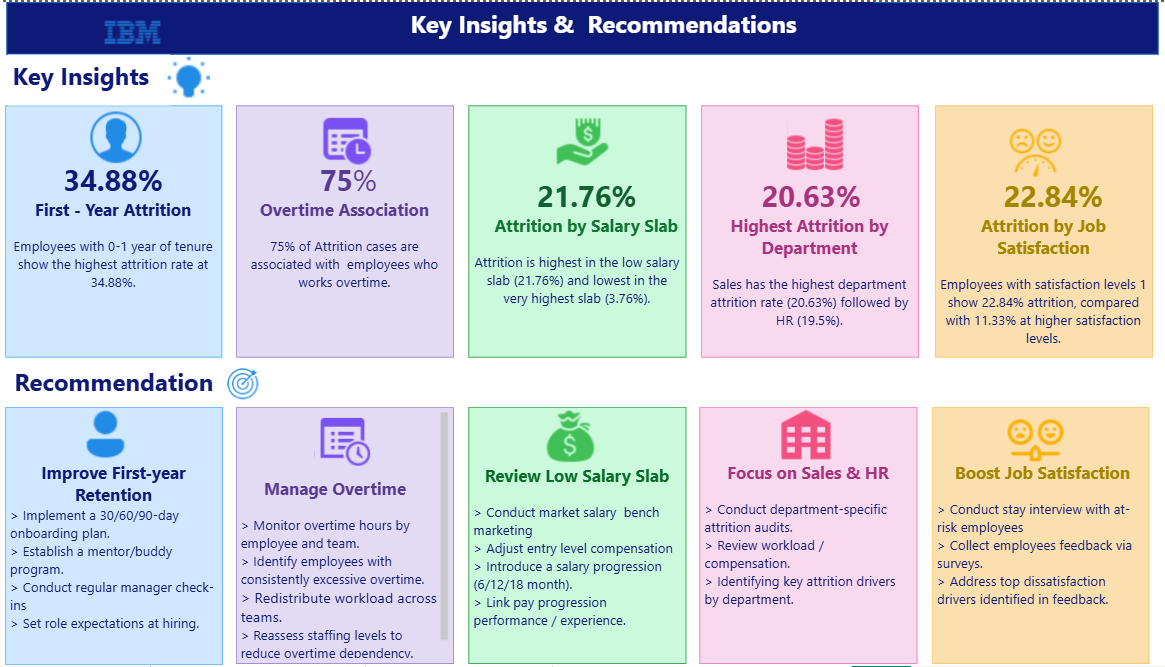

What the dashboard file says about the page in this screenshot:
{"tool":"powerbi","page":{"name":"Insights & Recommendations","canvas":[1300,900],"ordinal":2},"visuals":[{"type":"shape","title":"Key Insights  &   Recommendations","box":[8.3,0,1280,58.3],"z":0},{"type":"textbox","box":[6.7,115,241,280],"z":1000},{"type":"textbox","box":[263.3,115,241.7,280],"z":2000},{"type":"textbox","box":[521.7,115,241.7,280],"z":3000},{"type":"textbox","box":[780,115,241.7,280],"z":4000},{"type":"textbox","box":[1040,115,241.7,280],"z":5000},{"type":"textbox","box":[6.7,448.3,241.7,285],"z":6000},{"type":"textbox","box":[263.3,450,241.7,285],"z":7000},{"type":"textbox","box":[520,448.3,241.7,285],"z":8000},{"type":"textbox","box":[778.3,450,241.7,285],"z":9000},{"type":"textbox","box":[1036.7,450,241,285],"z":10000},{"type":"textbox","box":[9.7,58.3,180,56.7],"z":11000},{"type":"actionButton","box":[95,110,70,80],"z":12000},{"type":"actionButton","box":[350,111.7,70,80],"z":13000},{"type":"actionButton","box":[871.7,116.7,70,80],"z":14000},{"type":"actionButton","box":[1116.7,126.7,70,80],"z":15000},{"type":"actionButton","box":[83.3,440,70,80],"z":16000},{"type":"actionButton","box":[346.7,445,70,80],"z":17000},{"type":"actionButton","box":[613.3,115,70,80],"z":18000},{"type":"actionButton","box":[600,443.3,70,80],"z":19000},{"type":"actionButton","box":[861.7,441.7,70,80],"z":20000},{"type":"actionButton","box":[1116.7,446.7,70,80],"z":21000},{"type":"textbox","box":[6.7,398.3,241.7,45],"z":22000},{"type":"actionButton","box":[183.3,56.7,130,55],"z":23000},{"type":"actionButton","box":[248.3,401.7,130,45],"z":24000},{"type":"textbox","box":[371.7,0,600,56.7],"z":25000},{"type":"actionButton","box":[113.3,0,100,70],"z":26000}]}

Visuals, with their boxes on the page's 1300x900 design canvas (x1, y1, x2, y2). These are canvas units, not pixel positions in the 1165x667 screenshot, which may show the page scaled, cropped or inside an application window:
"Key Insights  &   Recommendations" shape: box=[8, 0, 1288, 58]
textbox: box=[7, 115, 248, 395]
textbox: box=[263, 115, 505, 395]
textbox: box=[522, 115, 763, 395]
textbox: box=[780, 115, 1022, 395]
textbox: box=[1040, 115, 1282, 395]
textbox: box=[7, 448, 248, 733]
textbox: box=[263, 450, 505, 735]
textbox: box=[520, 448, 762, 733]
textbox: box=[778, 450, 1020, 735]
textbox: box=[1037, 450, 1278, 735]
textbox: box=[10, 58, 190, 115]
actionButton: box=[95, 110, 165, 190]
actionButton: box=[350, 112, 420, 192]
actionButton: box=[872, 117, 942, 197]
actionButton: box=[1117, 127, 1187, 207]
actionButton: box=[83, 440, 153, 520]
actionButton: box=[347, 445, 417, 525]
actionButton: box=[613, 115, 683, 195]
actionButton: box=[600, 443, 670, 523]
actionButton: box=[862, 442, 932, 522]
actionButton: box=[1117, 447, 1187, 527]
textbox: box=[7, 398, 248, 443]
actionButton: box=[183, 57, 313, 112]
actionButton: box=[248, 402, 378, 447]
textbox: box=[372, 0, 972, 57]
actionButton: box=[113, 0, 213, 70]
